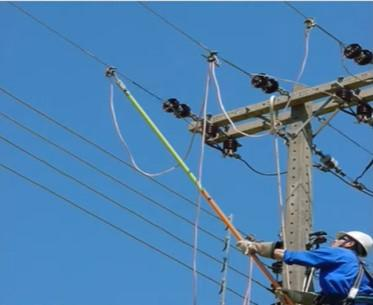Vara_Manobra: (114, 77, 292, 305)
